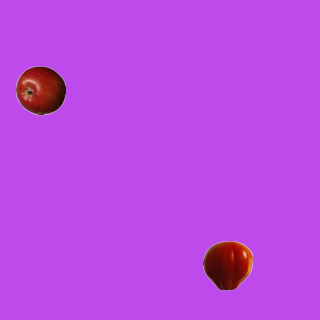Apple Braeburn: (15, 65, 65, 115)
Tomato 1: (202, 240, 252, 290)
